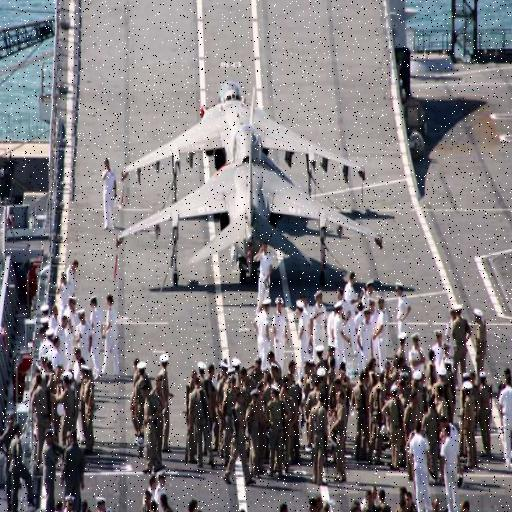Portanaves: (1, 1, 460, 504)
